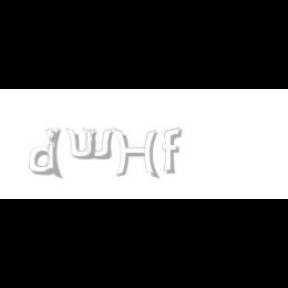H: (113, 128, 159, 180)
d: (30, 128, 66, 180)
f: (162, 128, 186, 174)
i: (45, 128, 61, 176)
u: (82, 128, 118, 160), (65, 128, 100, 160)
